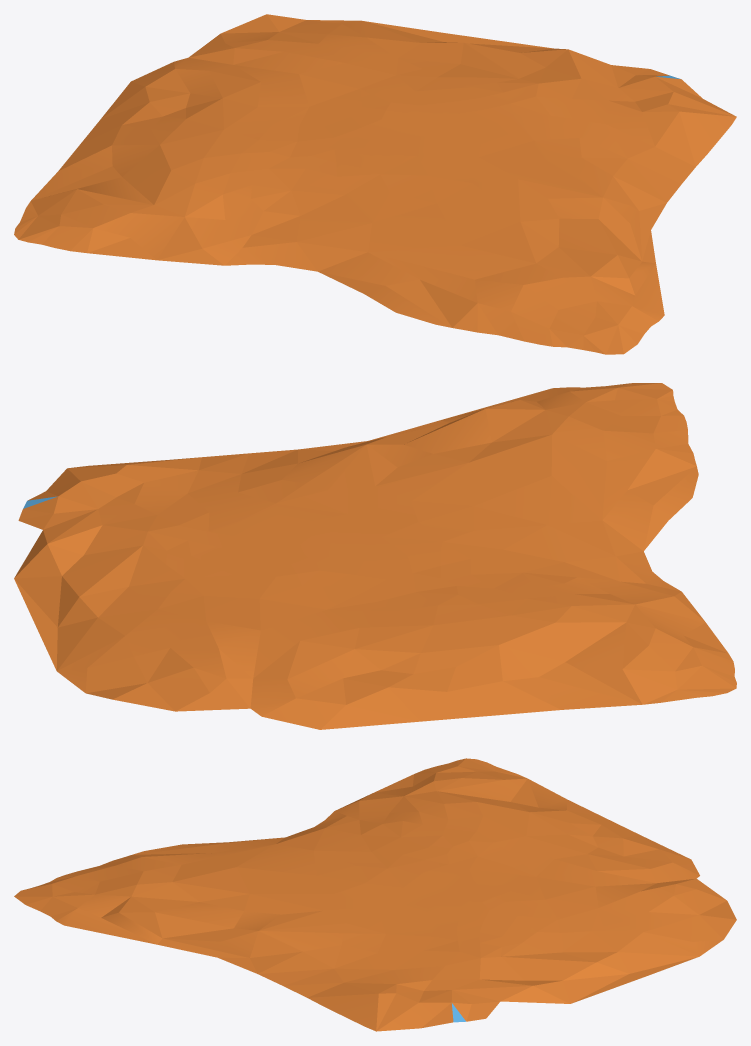
Rendered from Maindland.fbx.
3 views of the same model, one above another, from view 1: azimuth 30°, elevation 25°; view 2: azimuth 150°, elevation 25°; view 3: azimuth 270°, elevation 25° (orthographic). The views are drawn at different scales.
Visible parts, largest first — view 1: Ground_03.001; view 2: Ground_03.001; view 3: Ground_03.001.
Boxes of the visible parts, x1,y1,x2,y2 form: Ground_03.001: (14,14,736,354); Ground_03.001: (14,383,736,729); Ground_03.001: (14,758,736,1031).
Size of the model in its own units: 15462 by 611 by 17310.
